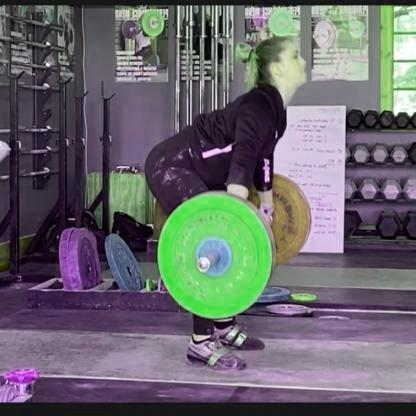Barbell: (192, 256, 210, 276)
